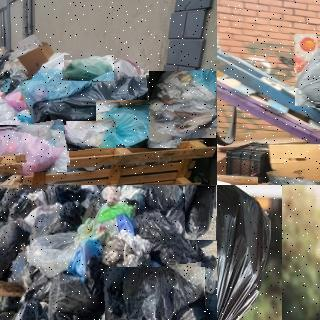Garbage: (217, 185, 282, 320), (103, 264, 206, 320), (147, 69, 217, 139), (96, 100, 177, 148), (0, 121, 68, 175), (21, 65, 93, 100), (294, 34, 320, 106), (185, 185, 216, 240), (0, 221, 27, 280), (65, 120, 117, 150), (64, 55, 114, 81), (143, 185, 184, 211)
